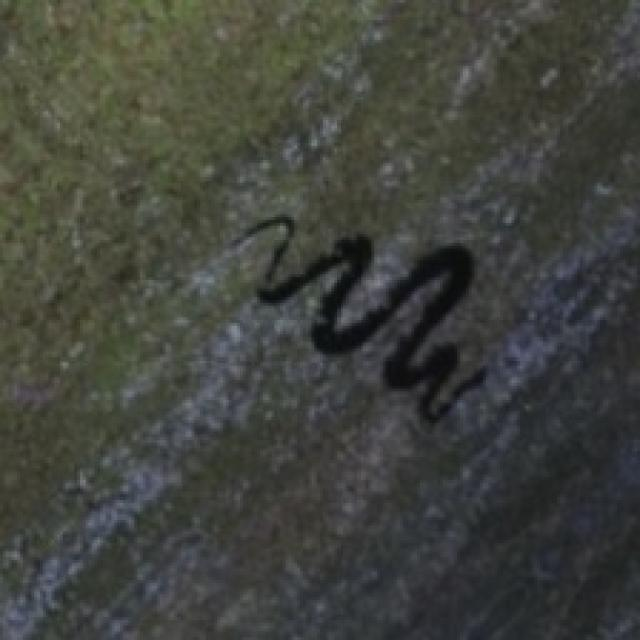king cobra: (231, 214, 483, 420)
